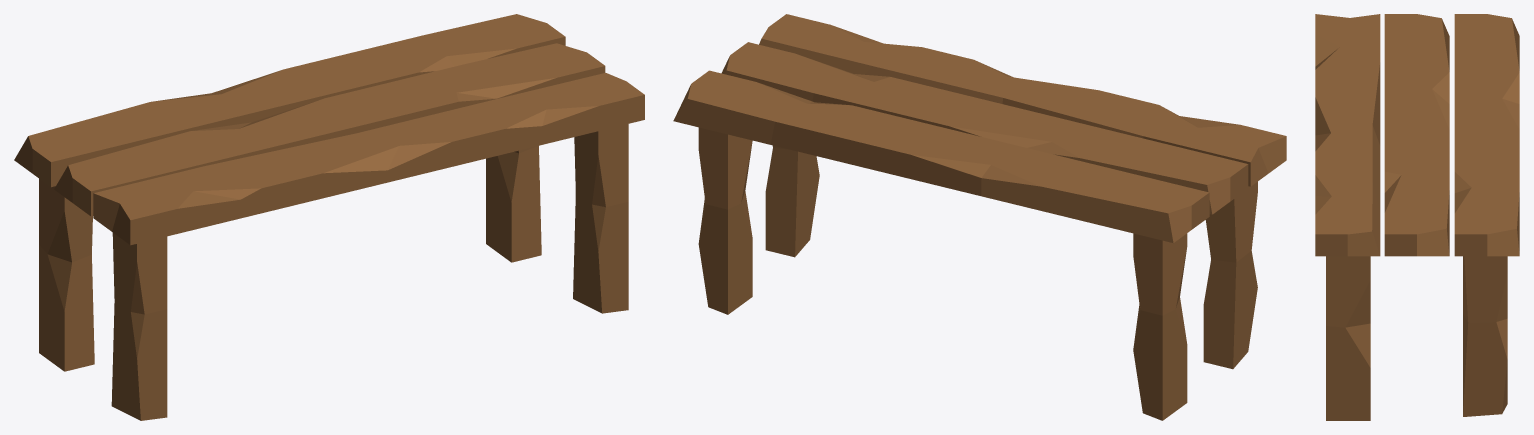
Rendered from Bench model.fbx.
The picture shows the model from 3 angles, left to right: view 1: azimuth 30°, elevation 25°; view 2: azimuth 150°, elevation 25°; view 3: azimuth 270°, elevation 25°; orthographic projection. The views are drawn at different scales.
Parts seen in each view (by area): view 1: pCube2, pCube9, pCube4, pCube12, pCube11, pCube10, pCube8; view 2: pCube4, pCube9, pCube2, pCube10, pCube8, pCube11, pCube12; view 3: pCube2, pCube4, pCube9, pCube12, pCube8.
Part boxes in pixels (box(x1,y1,x2,y2)): pCube2: box(93, 73, 644, 245); pCube9: box(54, 43, 605, 216); pCube4: box(14, 14, 565, 187); pCube12: box(573, 124, 628, 313); pCube11: box(111, 233, 167, 420); pCube10: box(39, 178, 94, 371); pCube8: box(486, 146, 541, 262); pCube4: box(673, 70, 1209, 242); pCube9: box(721, 42, 1248, 214); pCube2: box(759, 14, 1286, 186); pCube10: box(1133, 233, 1187, 420); pCube8: box(698, 127, 752, 314); pCube11: box(1203, 181, 1257, 369); pCube12: box(765, 145, 819, 257); pCube2: box(1315, 14, 1380, 256); pCube4: box(1454, 14, 1519, 256); pCube9: box(1384, 14, 1449, 256); pCube12: box(1326, 256, 1370, 420); pCube8: box(1463, 256, 1507, 416).
Bounding box in the file's own units: 34284 × 13842 × 13433.
